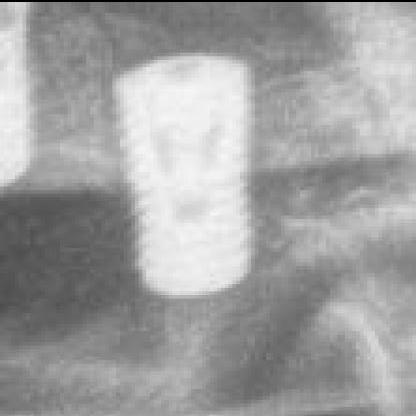ITI: (101, 52, 277, 302)
